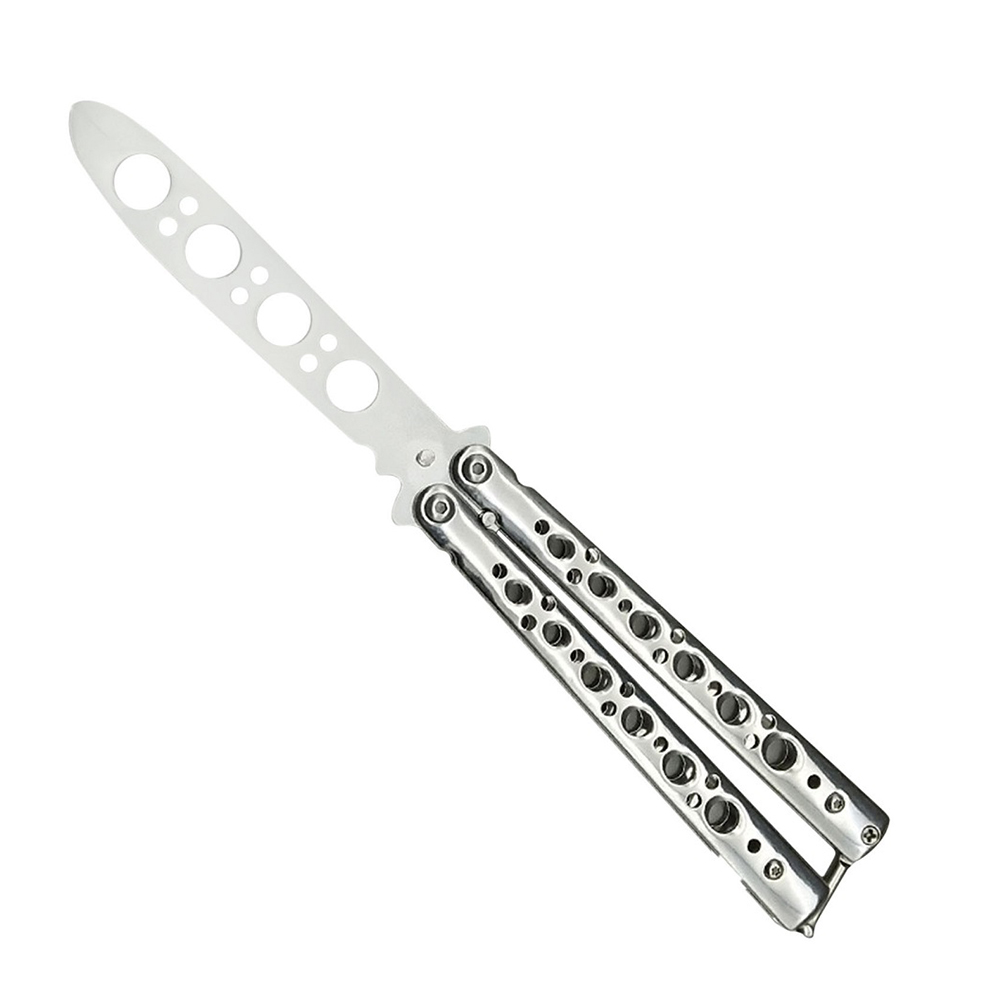knife: (41, 73, 910, 957)
